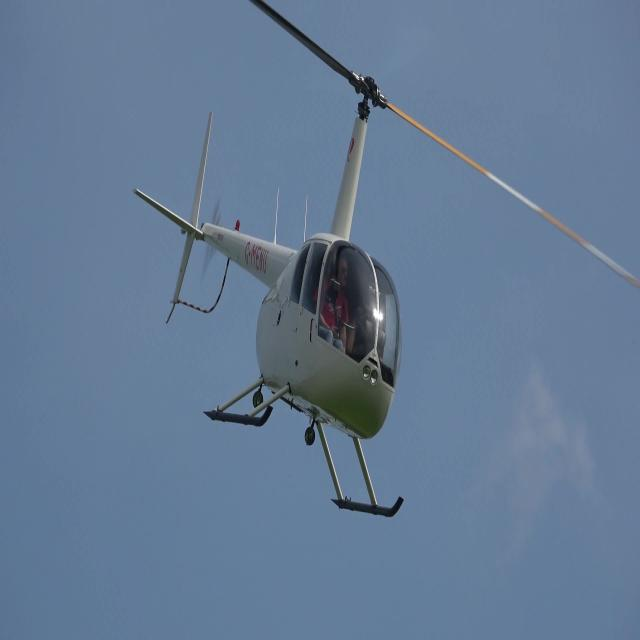CIV_HELO: (131, 0, 408, 523)
